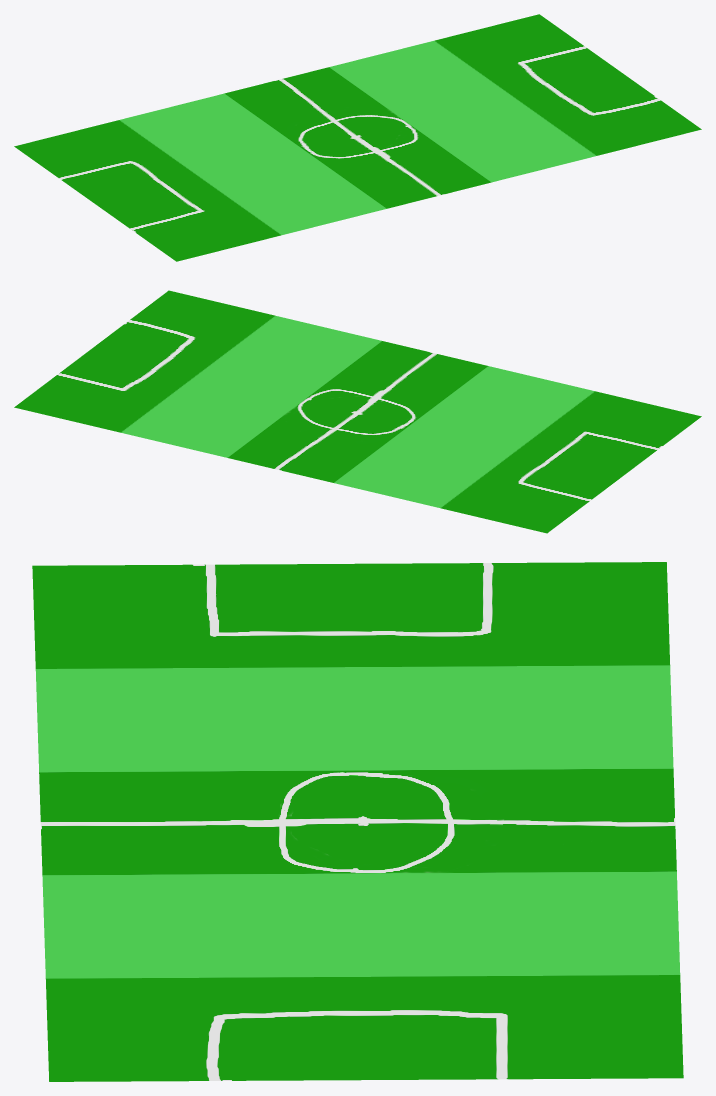
Rendered from LAPANGAN.glb.
3 views of the same model, one above another, from view 1: azimuth 30°, elevation 25°; view 2: azimuth 150°, elevation 25°; view 3: azimuth 270°, elevation 25° (orthographic). The views are drawn at different scales.
Visible parts, largest first — view 1: Plane.001; view 2: Plane.001; view 3: Plane.001.
Boxes of the visible parts, x1,y1,x2,y2 form: Plane.001: (14, 14, 701, 261); Plane.001: (14, 290, 701, 533); Plane.001: (32, 562, 683, 1081).
Bounding box in the file's own units: 33.59 × 0 × 17.78.
Materials: 2 (2 with a texture image).
